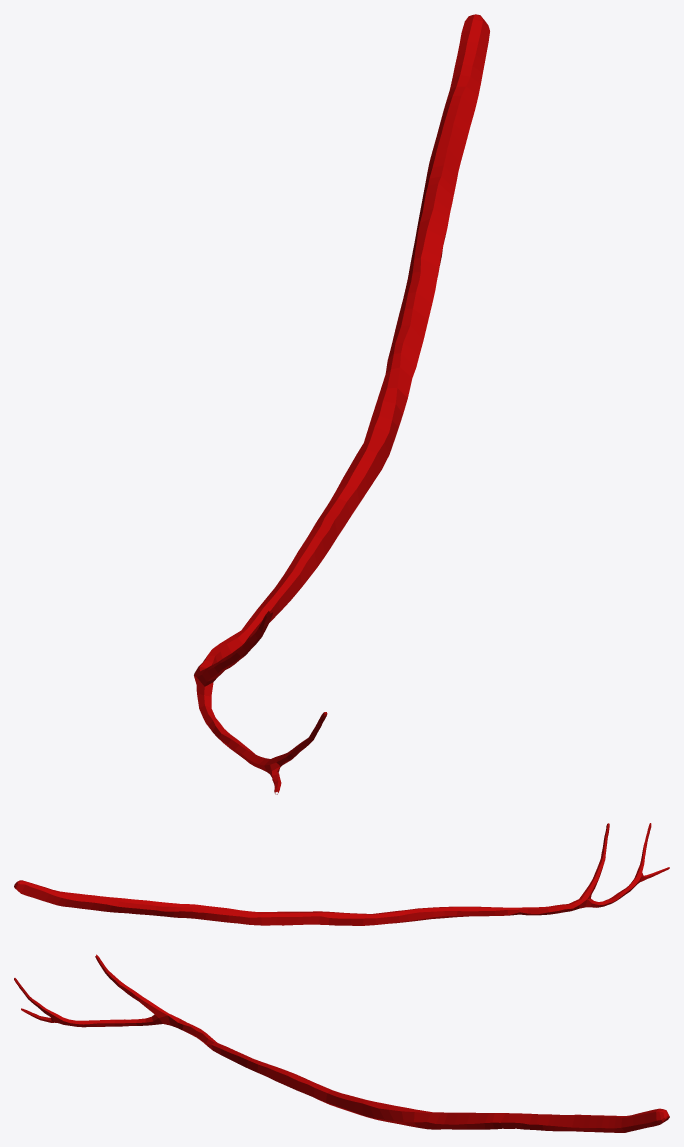
Rendered from Abducens_nerve_R.glb.
3 views of the same model, one above another, from view 1: azimuth 30°, elevation 25°; view 2: azimuth 150°, elevation 25°; view 3: azimuth 270°, elevation 25° (orthographic). The views are drawn at different scales.
Parts seen in each view (by area): view 1: Abducens_nerve_R.001; view 2: Abducens_nerve_R.001; view 3: Abducens_nerve_R.001.
Boxes of the visible parts, x1,y1,x2,y2 form: Abducens_nerve_R.001: [194, 14, 489, 794]; Abducens_nerve_R.001: [14, 823, 669, 925]; Abducens_nerve_R.001: [14, 954, 669, 1132].
Bounding box in the file's own units: 0.069 × 0.0181 × 0.0883.
Materials: 1 (1 with a texture image).
